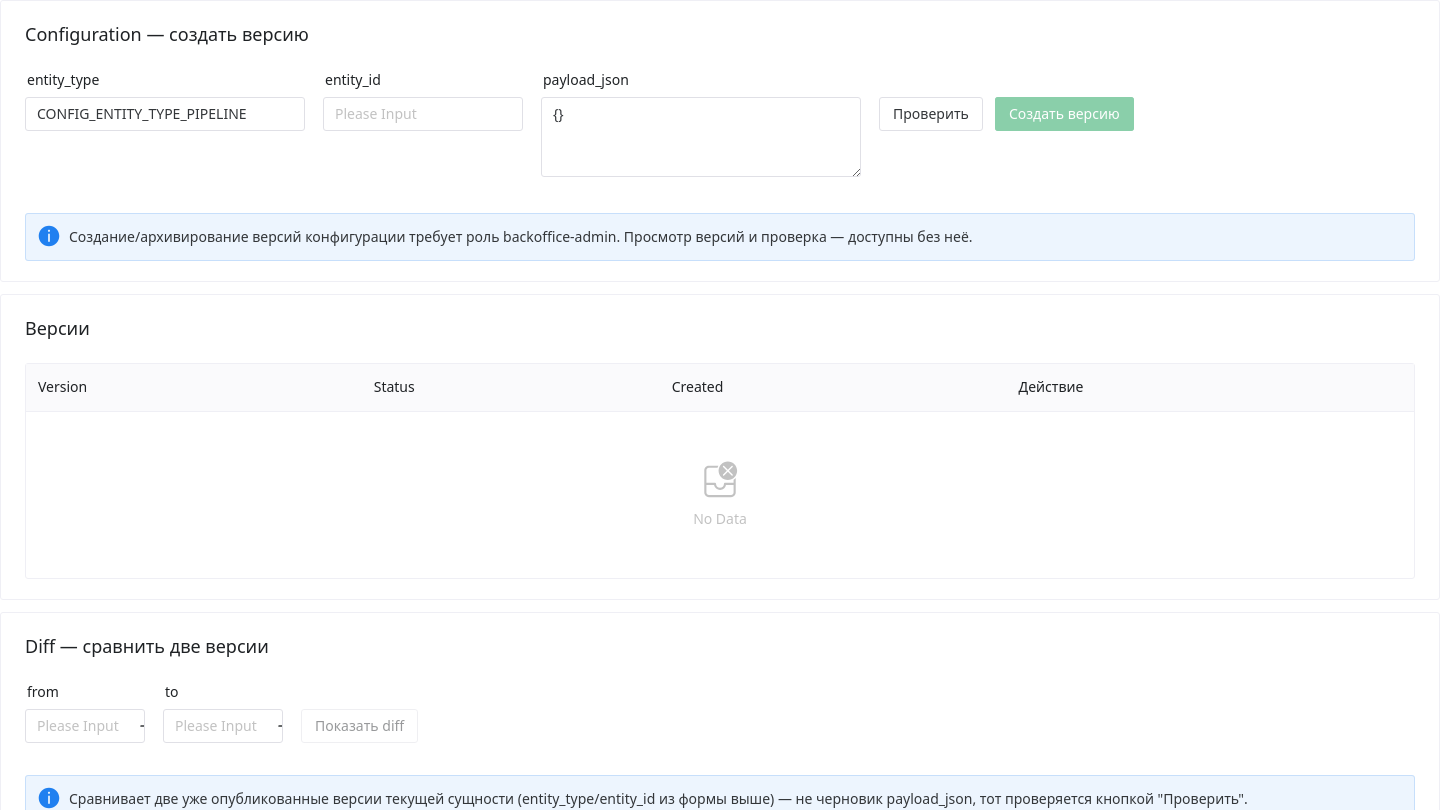
Test case: ConfigView — Preview/Diff (Ф10) › 'Проверить' с valid:true показывает сообщение об успехе, не ошибку
Click the button "Проверить". click: (931, 114)
box: [879,97,983,131]
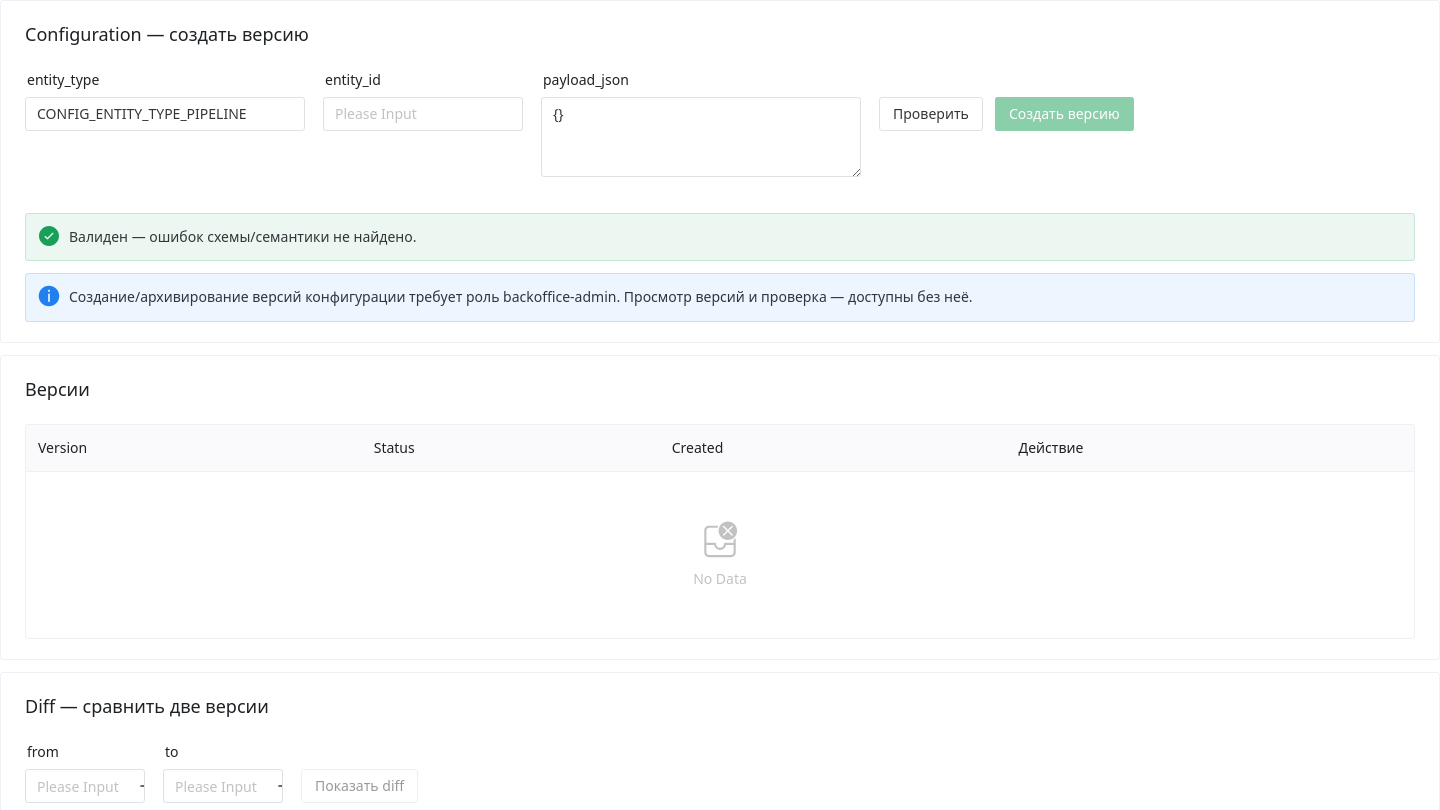
Now the text "Валиден" is shown, box [69,227,416,246]
